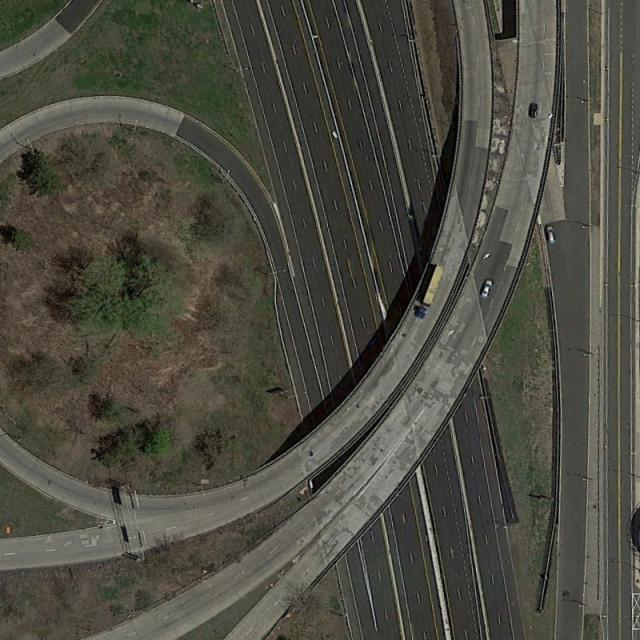vehicle: (416, 264, 444, 318), (480, 279, 491, 297), (547, 224, 555, 243), (529, 106, 537, 118)
